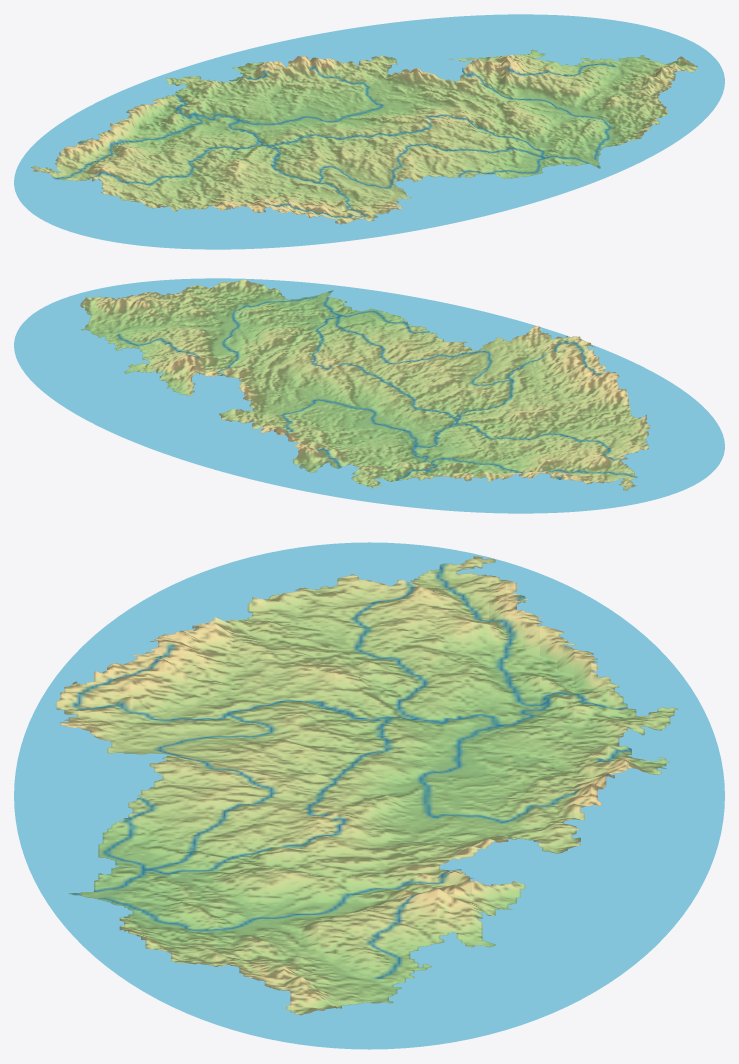
Rendered from CZE-terrain.glb.
3 renders of one model, top to bottom at view 1: azimuth 30°, elevation 25°; view 2: azimuth 150°, elevation 25°; view 3: azimuth 270°, elevation 25°, orthographic. The views are drawn at different scales.
Parts seen in each view (by area): view 1: Relevo com hidrografia; view 2: Relevo com hidrografia; view 3: Relevo com hidrografia.
Part boxes in pixels (left/top/right/bottom): Relevo com hidrografia: left=14, top=14, right=724, bottom=249; Relevo com hidrografia: left=14, top=278, right=724, bottom=513; Relevo com hidrografia: left=14, top=542, right=724, bottom=1049.
Bounding box in the file's own units: 1.78 × 0.046 × 1.05.
2 materials, 1 textured.
